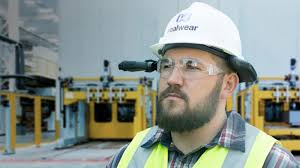Person_wearing_helmet: (144, 2, 261, 59)
